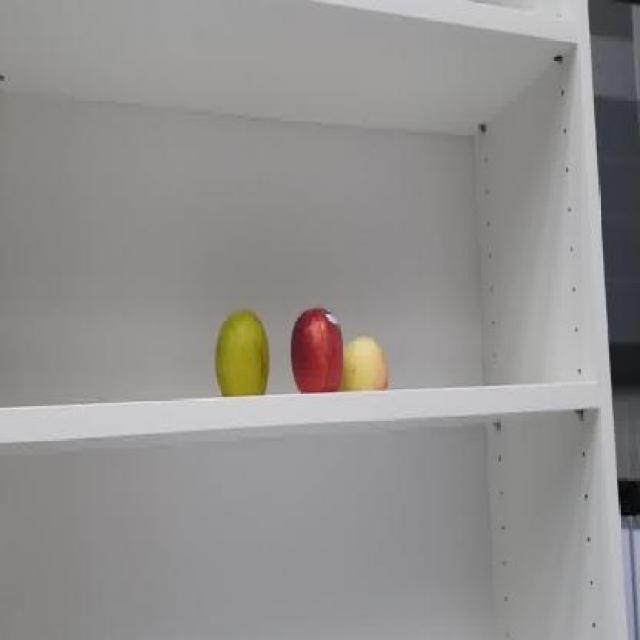Fresh Apple: (283, 300, 343, 391), (214, 311, 269, 394), (343, 331, 388, 394)
